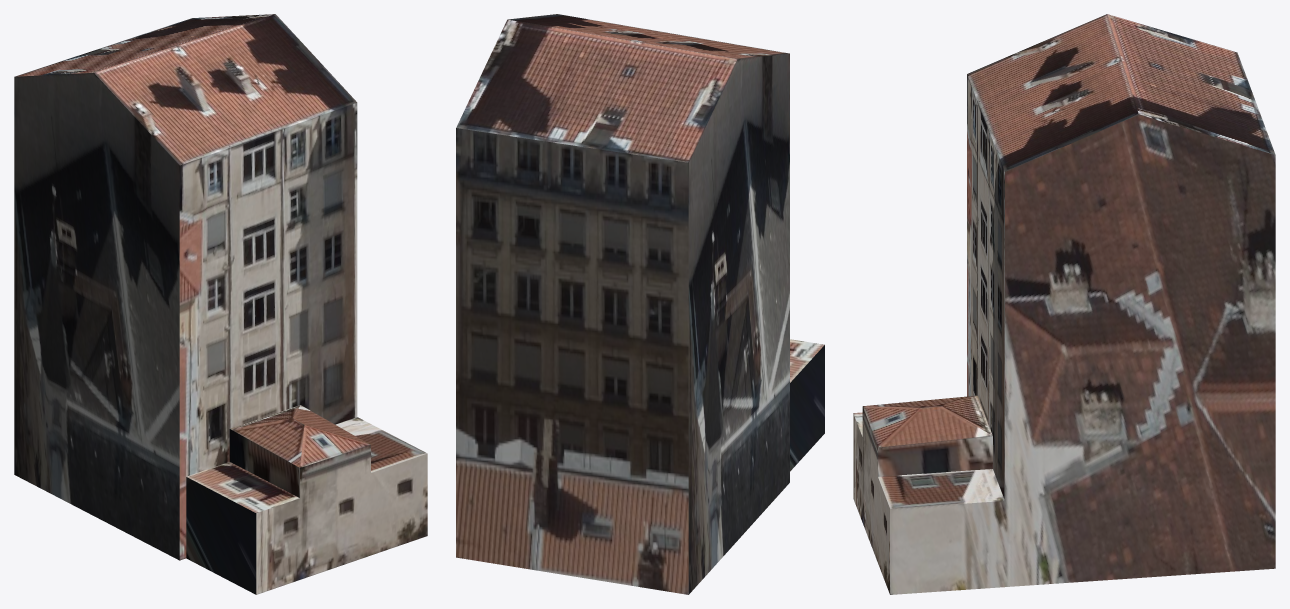
3 views of the same model, side by side, from view 1: azimuth 30°, elevation 25°; view 2: azimuth 150°, elevation 25°; view 3: azimuth 270°, elevation 25° (orthographic). The views are drawn at different scales.
Parts seen in each view (by area): view 1: Z_UP; view 2: Z_UP; view 3: Z_UP.
Boxes of the visible parts, x1,y1,x2,y2 form: Z_UP: (14, 14, 427, 594); Z_UP: (456, 14, 824, 594); Z_UP: (853, 14, 1275, 594).
Size of the model in its own units: 14.25 by 24.4 by 20.15.
2 materials, 1 textured.
